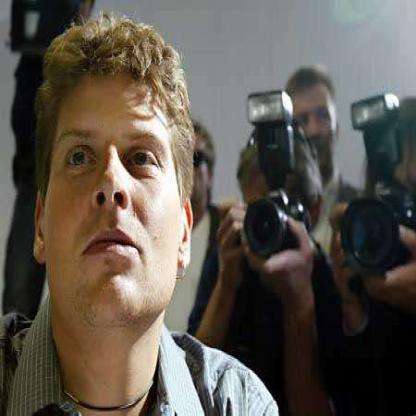face: (39, 19, 189, 335), (288, 67, 340, 181), (177, 124, 212, 205)
